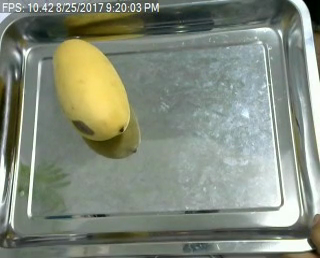Mango: (50, 34, 133, 145)
